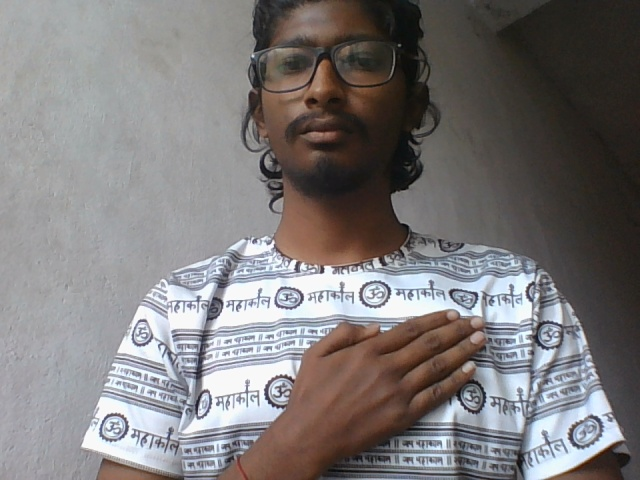Pay: (270, 303, 493, 462)
